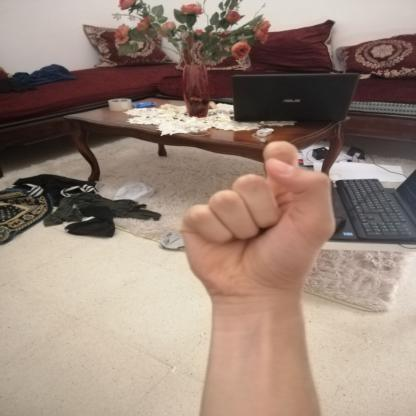FAA: (171, 132, 350, 311)
